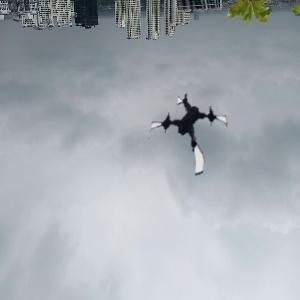drone: (147, 92, 233, 178)
